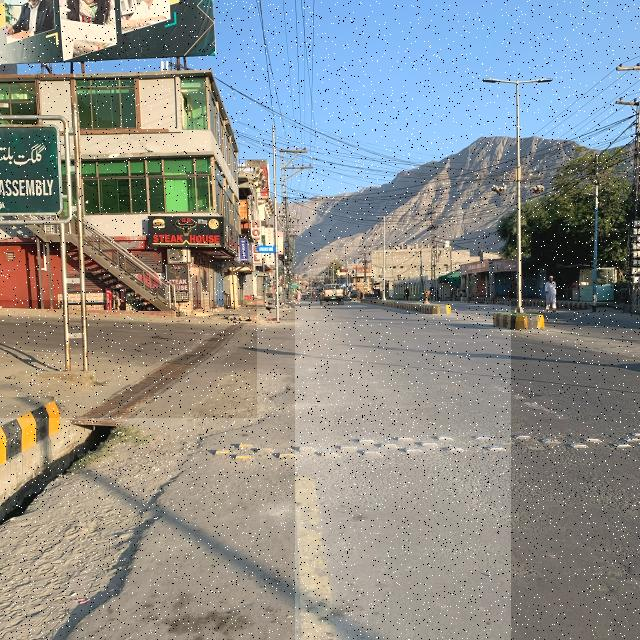left: (0, 300, 257, 418)
straight: (295, 301, 511, 640)
